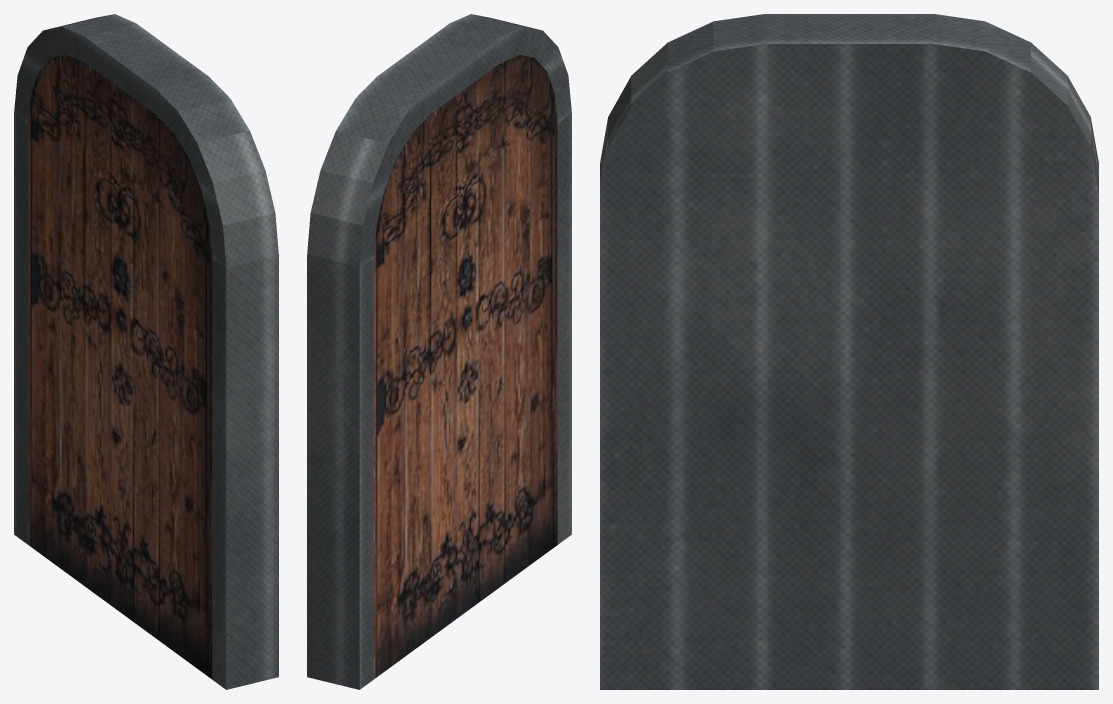
The model's file is GenericDoor.glb.
3 views of the same model, side by side, from view 1: azimuth 30°, elevation 25°; view 2: azimuth 150°, elevation 25°; view 3: azimuth 270°, elevation 25° (orthographic). The views are drawn at different scales.
Visible parts, largest first — view 1: Door; view 2: Door; view 3: Door.
Part boxes in pixels (left/top/right/bottom): Door: left=14, top=14, right=278, bottom=689; Door: left=307, top=14, right=571, bottom=689; Door: left=600, top=14, right=1098, bottom=689.
Bounding box in the file's own units: 0.14 × 1.4 × 0.98.
Materials: 2 (2 with a texture image).
